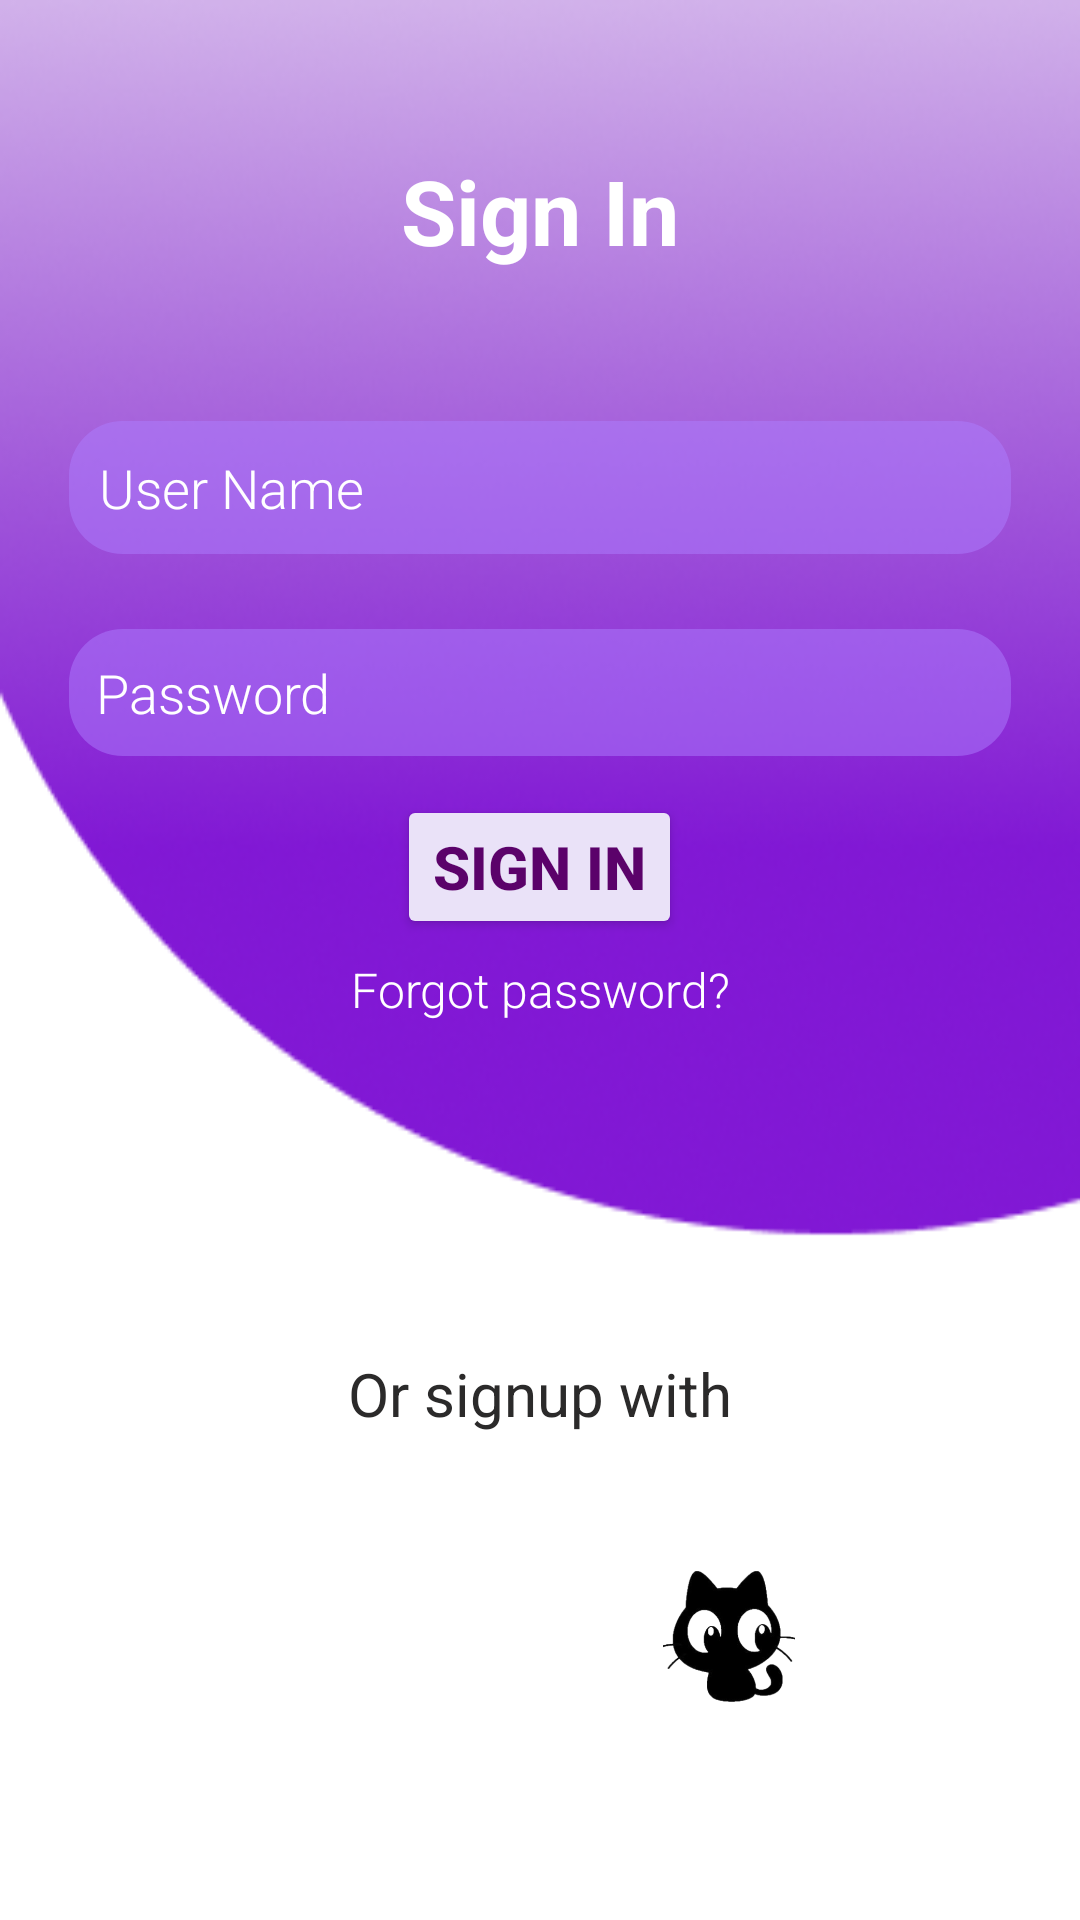

Screen size 1080px×1920px. Icon name, then its box in pixels as rect(x1, y1, x2, y2):
meoden: rect(663, 1571, 795, 1702)
